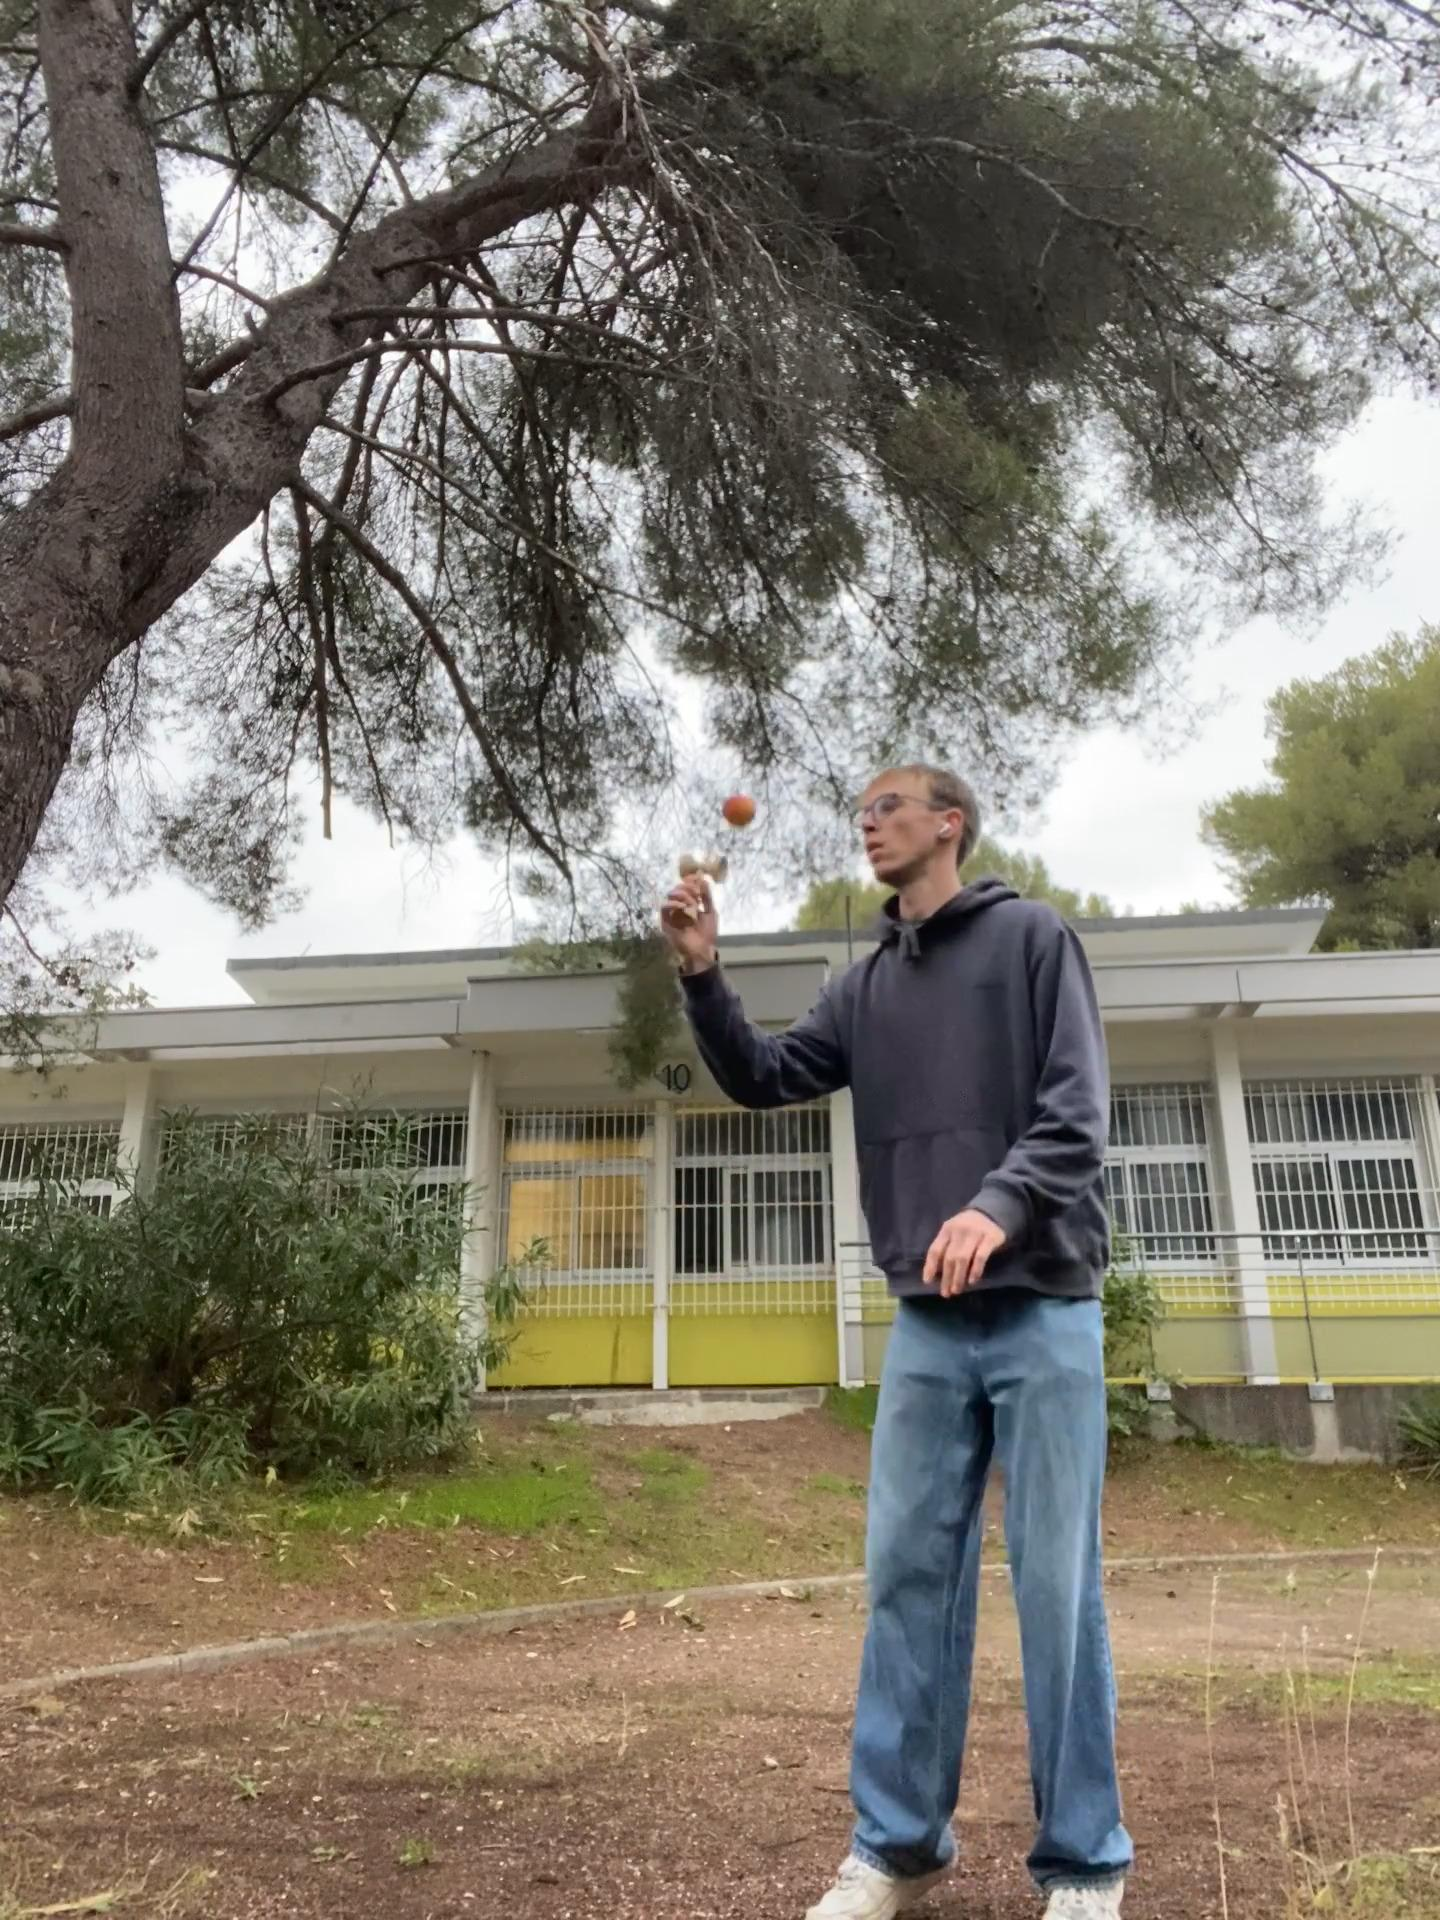kendama_ball: (723, 794, 756, 825)
